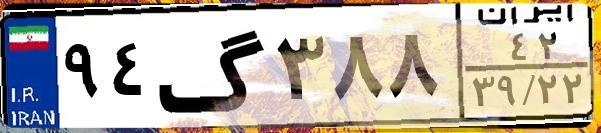2: (560, 70, 590, 125), (537, 27, 568, 80), (535, 70, 560, 125)
3: (270, 28, 330, 110), (470, 70, 495, 125)
4: (110, 28, 156, 98), (508, 27, 537, 80)
8: (385, 28, 445, 110), (330, 28, 385, 110)
9: (57, 26, 110, 100), (495, 70, 520, 125)
گ: (156, 12, 270, 120)
